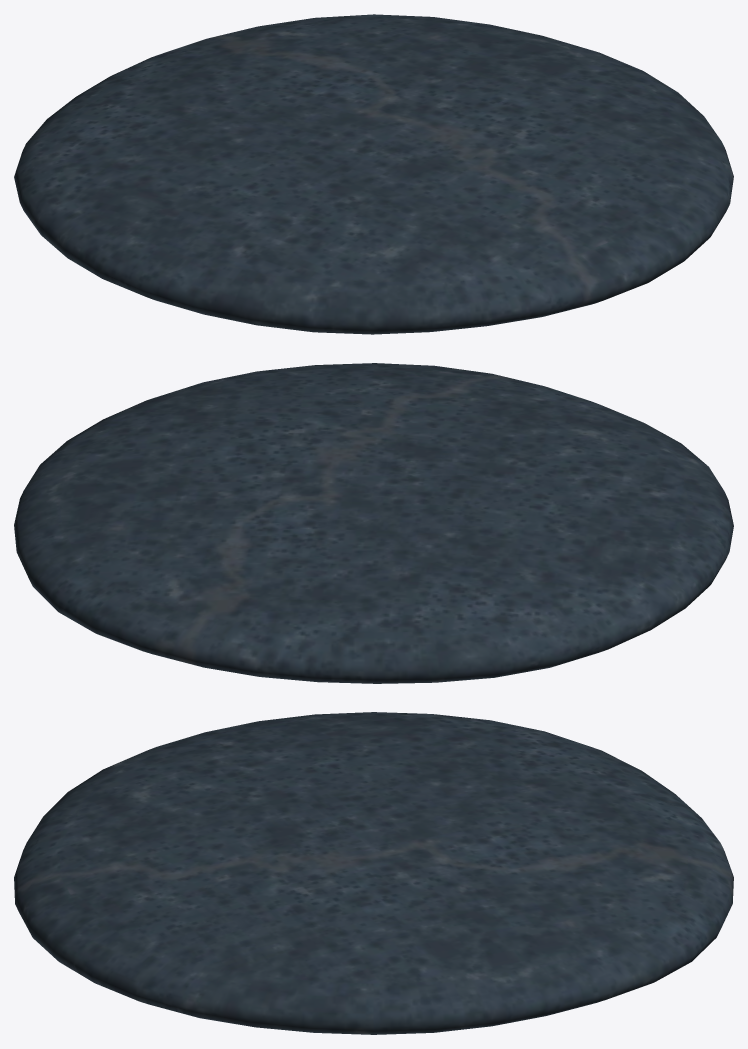
File: heavy_basalt_05.glb
3 renders of one model, top to bottom at view 1: azimuth 30°, elevation 25°; view 2: azimuth 150°, elevation 25°; view 3: azimuth 270°, elevation 25°, orthographic.
Parts seen in each view (by area): view 1: heavy_basalt_05; view 2: heavy_basalt_05; view 3: heavy_basalt_05.
Boxes of the visible parts, left/top/right/bottom form: heavy_basalt_05: left=14, top=14, right=733, bottom=334; heavy_basalt_05: left=14, top=363, right=733, bottom=683; heavy_basalt_05: left=14, top=712, right=733, bottom=1034.
Size of the model in its own units: 0.0853 by 0.0111 by 0.0849.
Materials: 1 (1 with a texture image).
